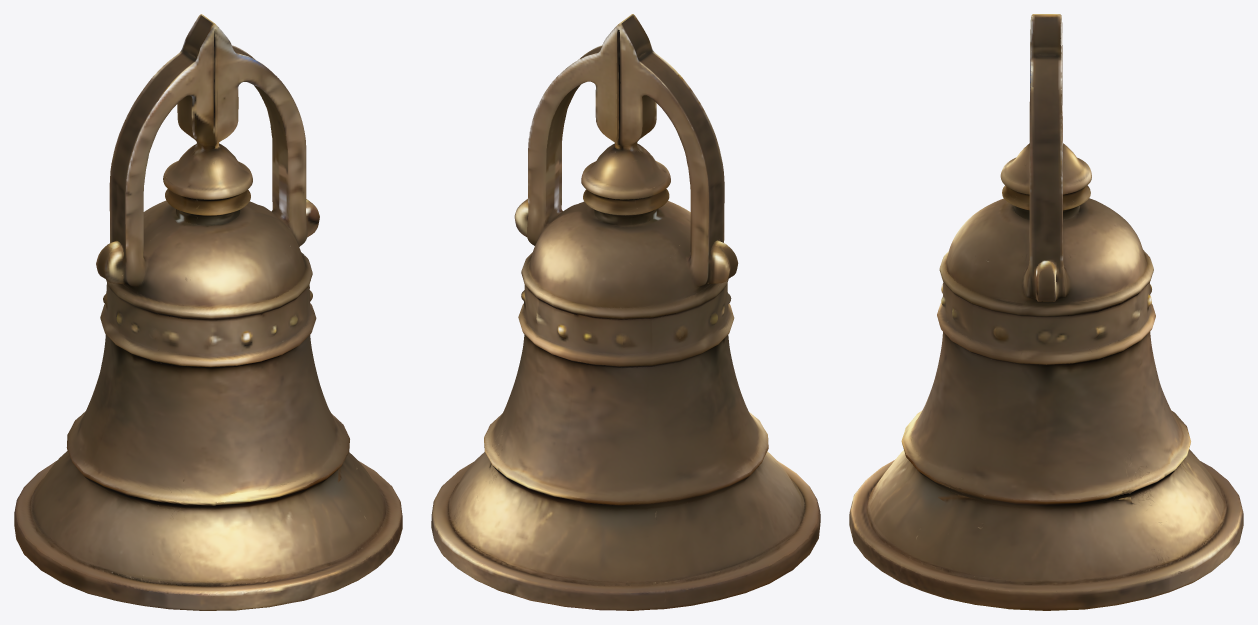
Rendered from base_basic_shaded.fbx.
3 renders of one model, left to right at view 1: azimuth 30°, elevation 25°; view 2: azimuth 150°, elevation 25°; view 3: azimuth 270°, elevation 25°, orthographic.
Parts seen in each view (by area): view 1: model; view 2: model; view 3: model.
Boxes of the visible parts, x1,y1,x2,y2 form: model: (14,14,402,610); model: (431,14,820,610); model: (849,14,1243,610).
Size of the model in its own units: 124 by 190 by 125.
